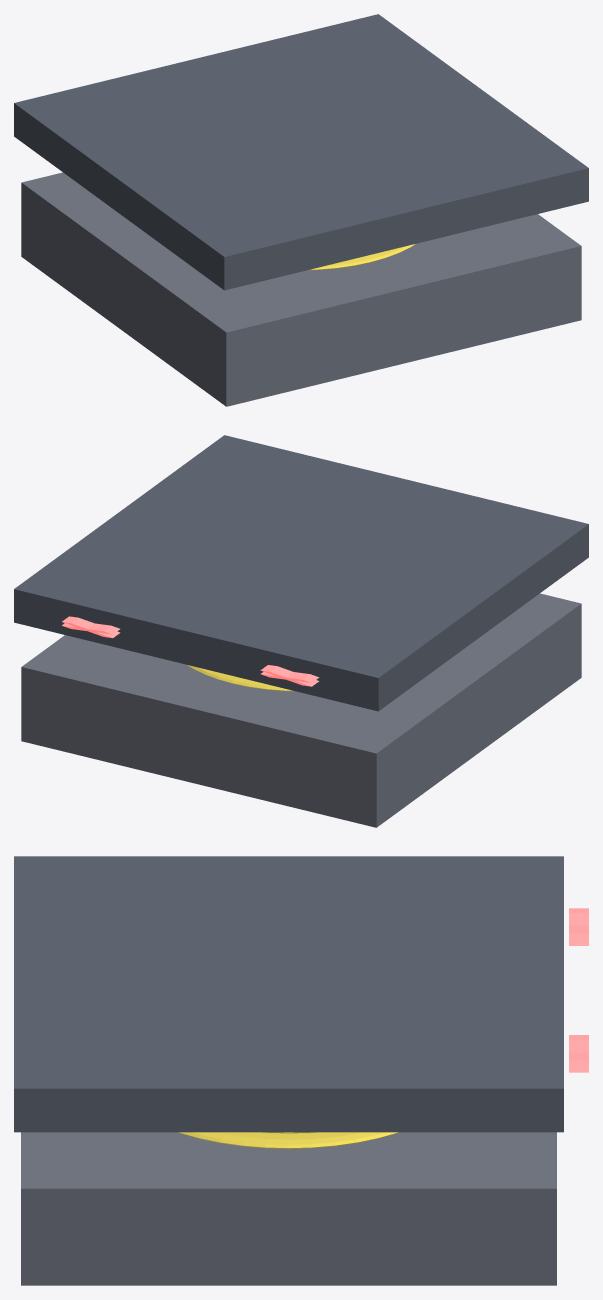
File: enemy-death-spring.glb
3 views of the same model, one above another, from view 1: azimuth 30°, elevation 25°; view 2: azimuth 150°, elevation 25°; view 3: azimuth 270°, elevation 25° (orthographic). The views are drawn at different scales.
Visible parts, largest first — view 1: Spring_Head_Cube, Spring_Base_Tray, Spring_Ring_0; view 2: Spring_Head_Cube, Spring_Base_Tray, Spring_Ring_0; view 3: Spring_Head_Cube, Spring_Base_Tray, Spring_Ring_0.
Boxes of the visible parts, x1,y1,x2,y2 form: Spring_Head_Cube: (14, 14, 588, 290); Spring_Base_Tray: (21, 172, 581, 406); Spring_Ring_0: (308, 244, 415, 270); Spring_Head_Cube: (14, 435, 588, 711); Spring_Base_Tray: (21, 593, 581, 827); Spring_Ring_0: (187, 665, 294, 691); Spring_Head_Cube: (14, 856, 563, 1132); Spring_Base_Tray: (21, 1132, 556, 1285); Spring_Ring_0: (179, 1132, 398, 1148).
Bounding box in the file's own units: 0.77 × 0.3088 × 0.805.
